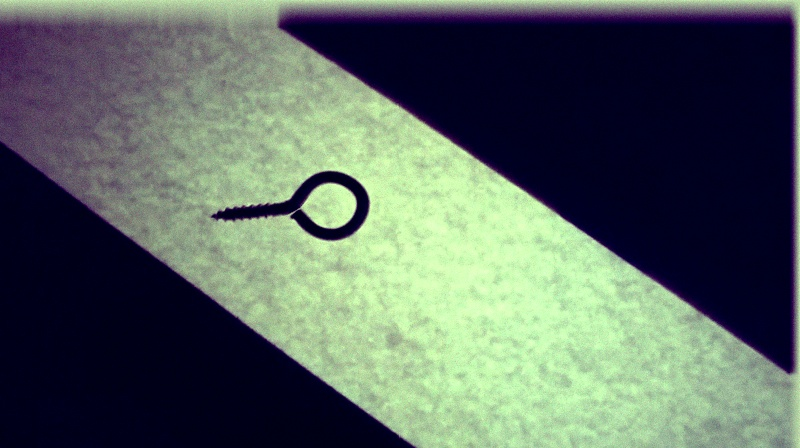O001: (205, 168, 371, 243)
